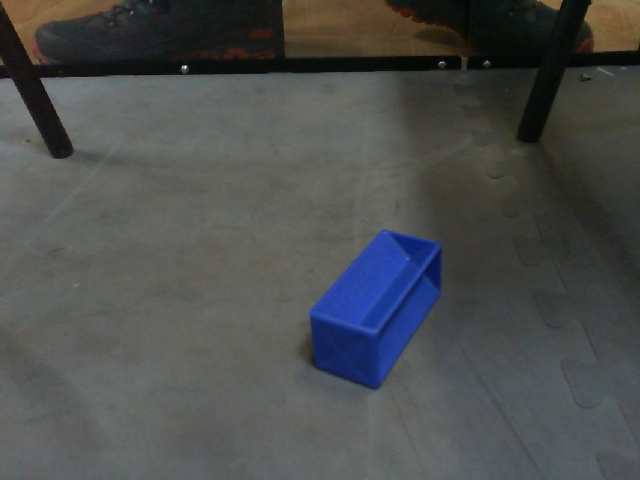BlueSample: (305, 224, 448, 392)
